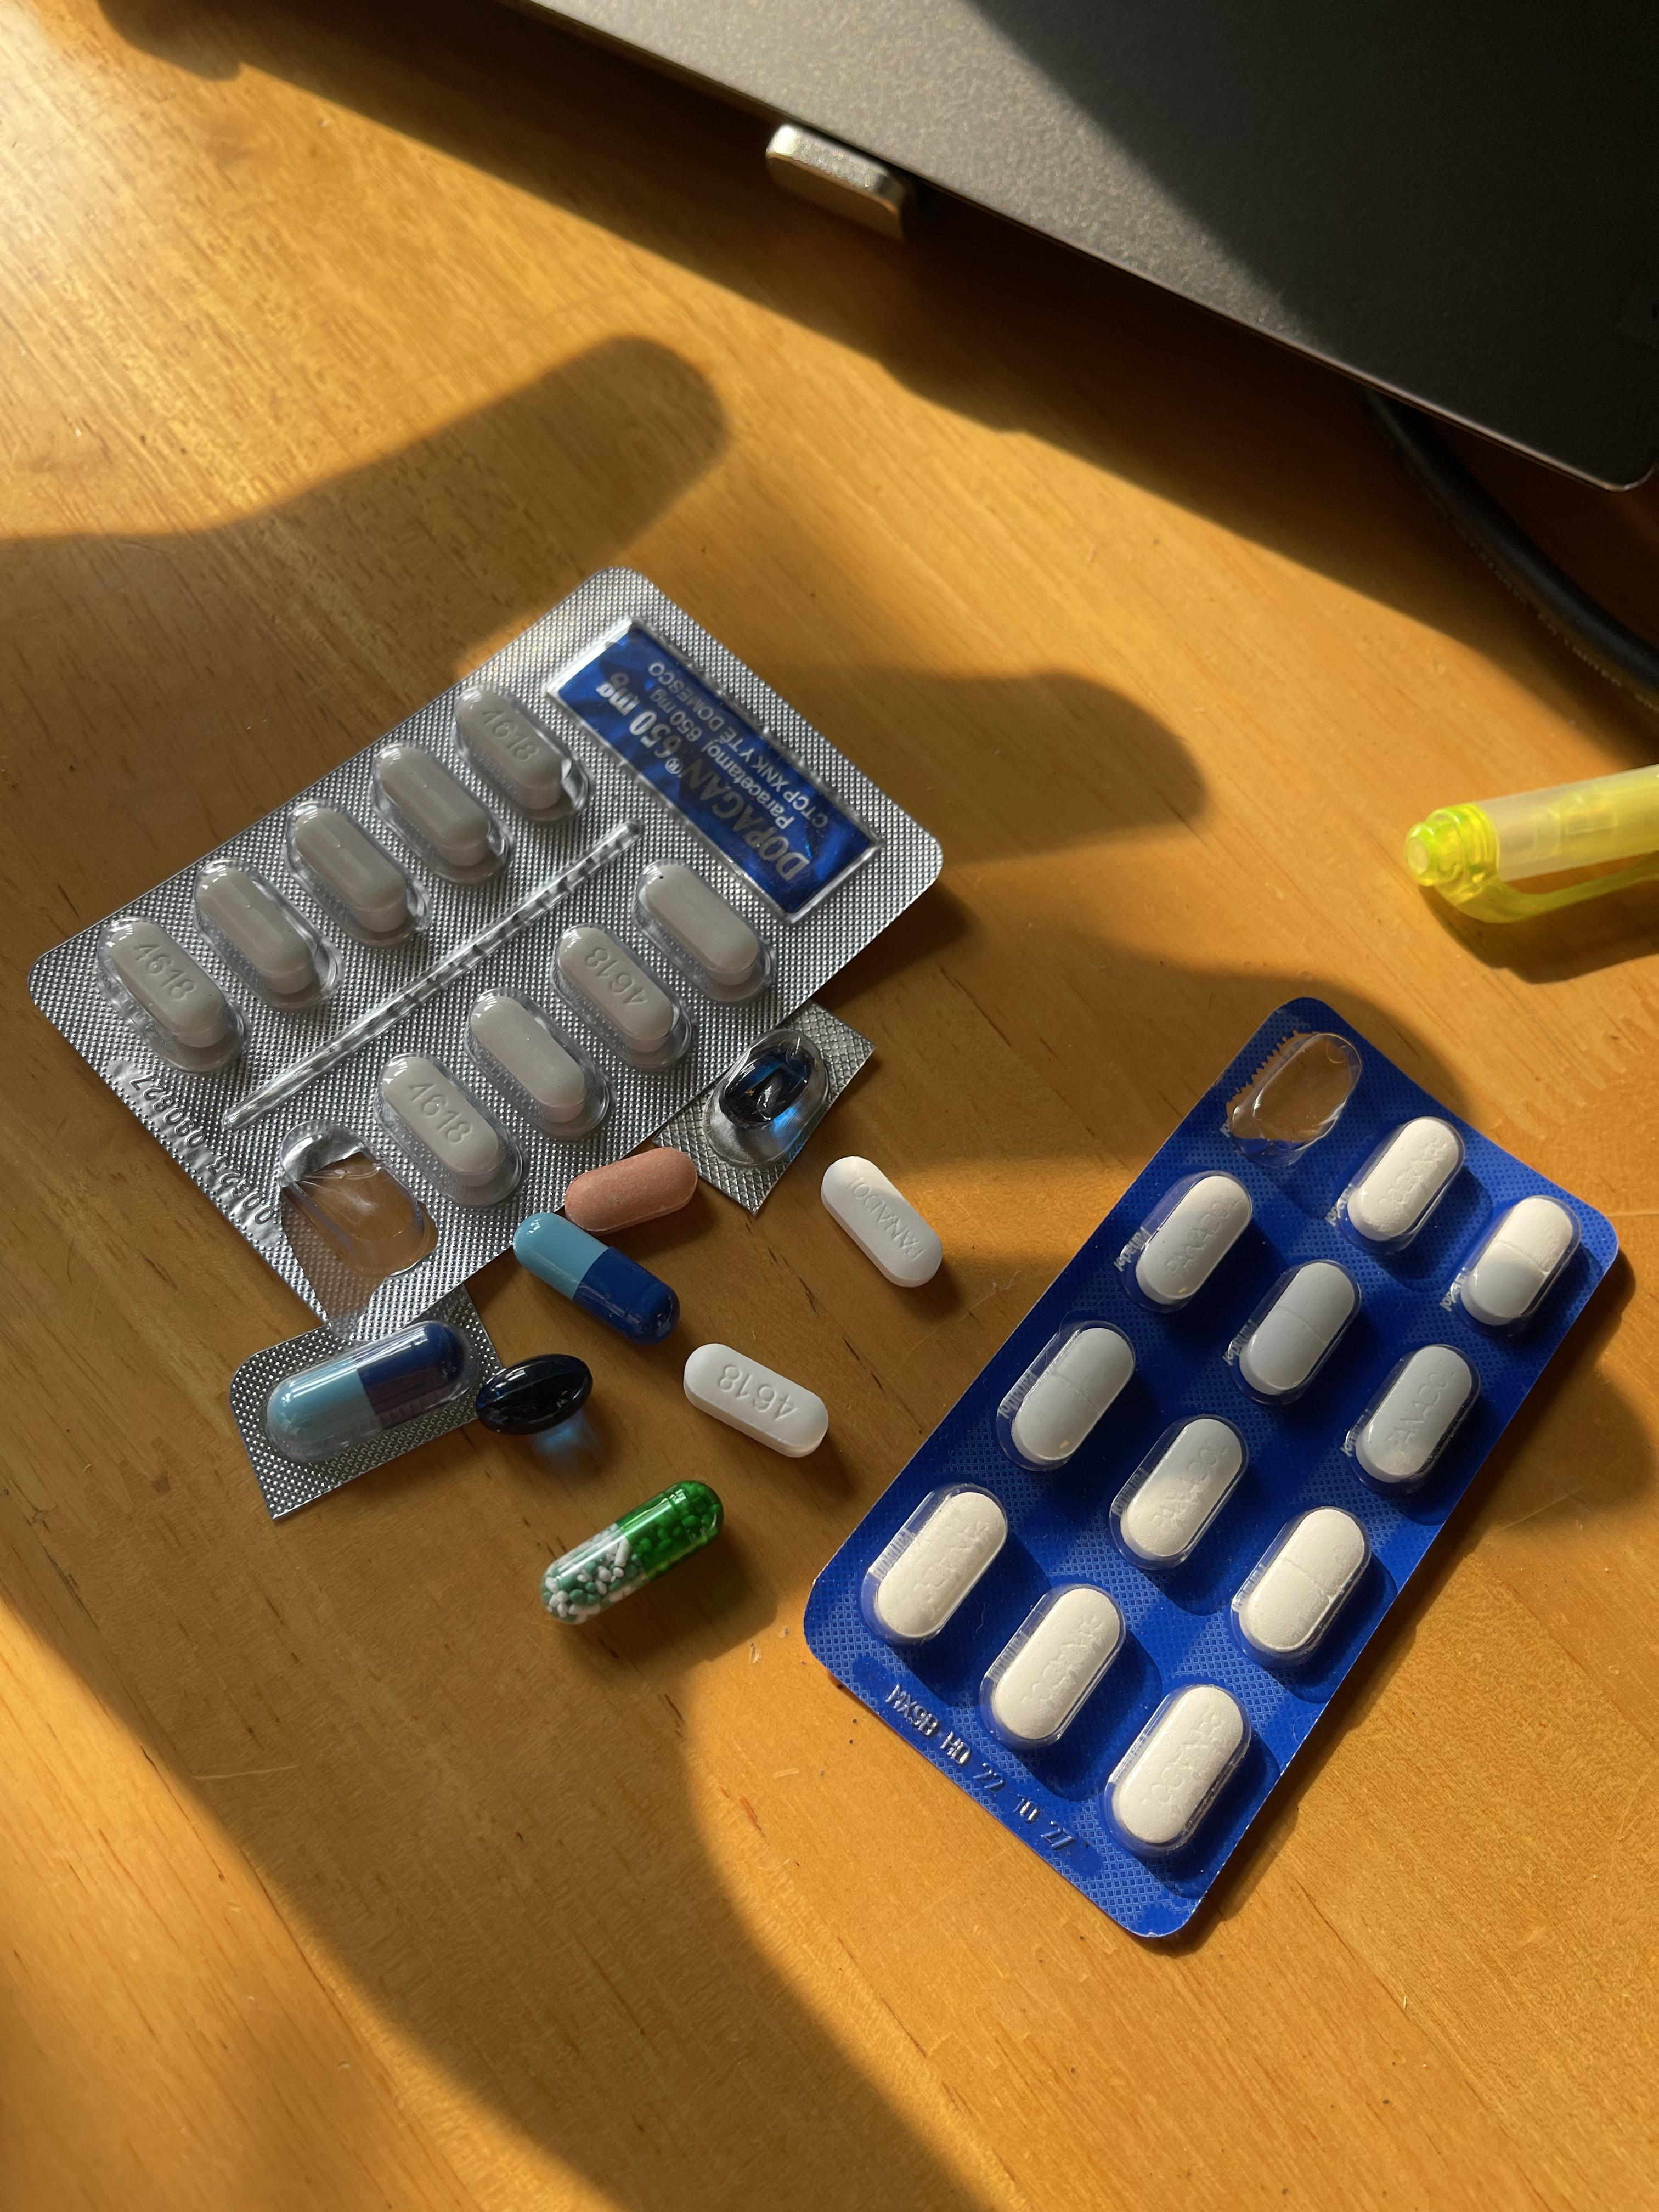Lincomyxin_500mg: (474, 1353, 592, 1435), (721, 1042, 817, 1130)
Loratadine_10mg: (559, 1146, 702, 1231)
Paracetamol_350mg: (1108, 1683, 1253, 1862), (1234, 1503, 1375, 1672), (986, 1585, 1127, 1752), (870, 1487, 1009, 1649), (1114, 1414, 1248, 1571), (1002, 1322, 1138, 1475), (1349, 1339, 1480, 1498), (1452, 1186, 1579, 1339), (1232, 1258, 1361, 1407), (1338, 1109, 1467, 1256), (1127, 1172, 1255, 1313), (819, 1162, 938, 1285)
Paracetamol_500mg: (98, 914, 240, 1073), (554, 923, 694, 1076), (376, 1054, 518, 1204), (289, 799, 425, 951), (467, 993, 603, 1143), (455, 683, 592, 826), (195, 866, 329, 1008), (638, 862, 769, 1001), (375, 747, 504, 883), (683, 1343, 826, 1460)
Paracetamol_650mg: (544, 1484, 720, 1620)
pill: (267, 1329, 460, 1447), (514, 1212, 676, 1341)
